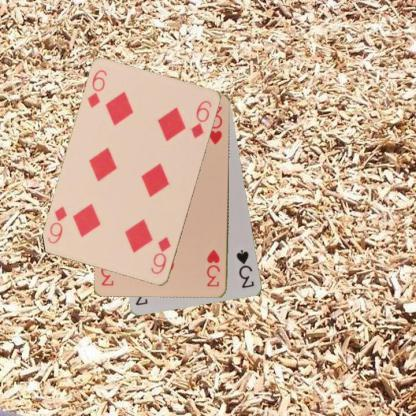3h: (204, 248, 221, 288)
3s: (234, 247, 255, 290)
6d: (85, 67, 109, 110), (148, 235, 172, 276)
